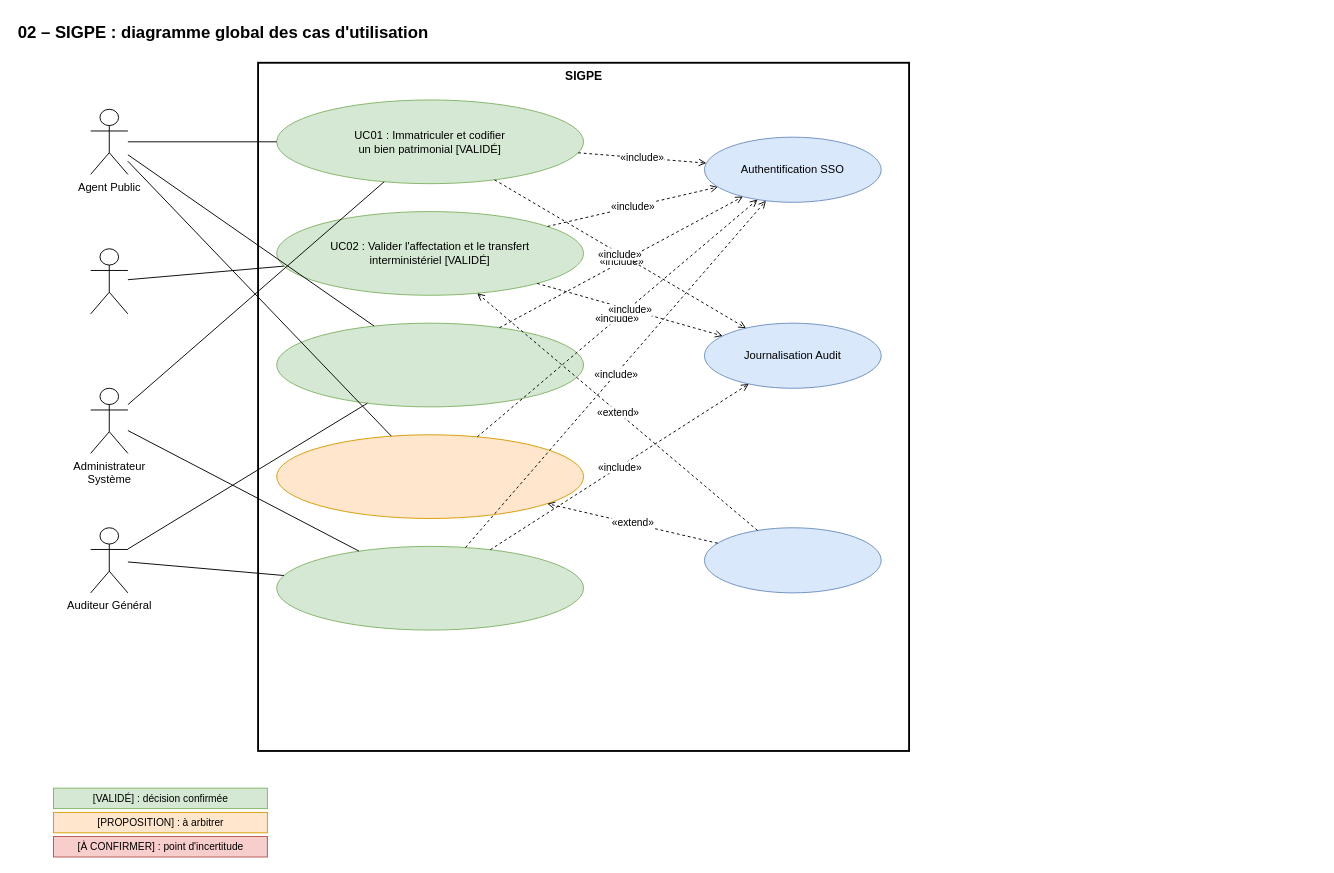
Image size: 1334x873. Some labels were removed from this diagram. Each missing label, with the centre of its shape:
Notification temps réel: (792,560)
UC03 : Effectuer le récolement et l'inventaire physique [VALIDÉ]: (430,364)
UC04 : Traiter les demandes de maintenance et suivi de dégradation [PROPOSITION]: (430,476)
UC05 : Calculer les amortissements et états comptables [VALIDÉ]: (430,587)
Valideur Hiérarchique: (109,281)
